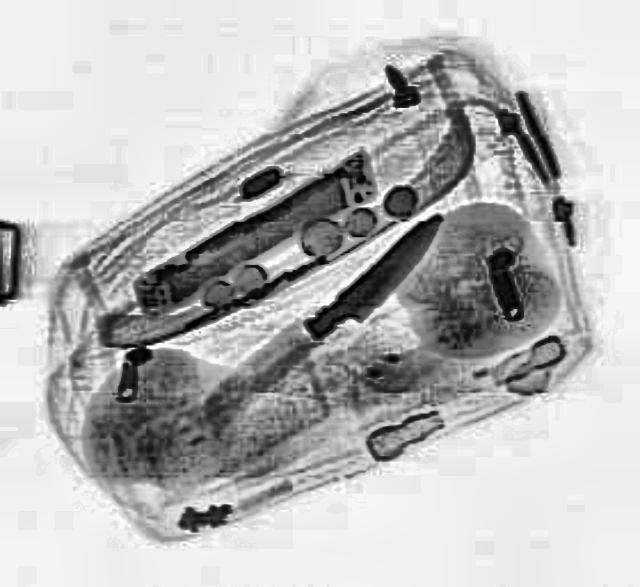Knife: (294, 204, 460, 348)
